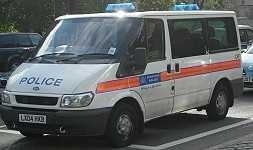Police Van: (8, 10, 247, 139)
